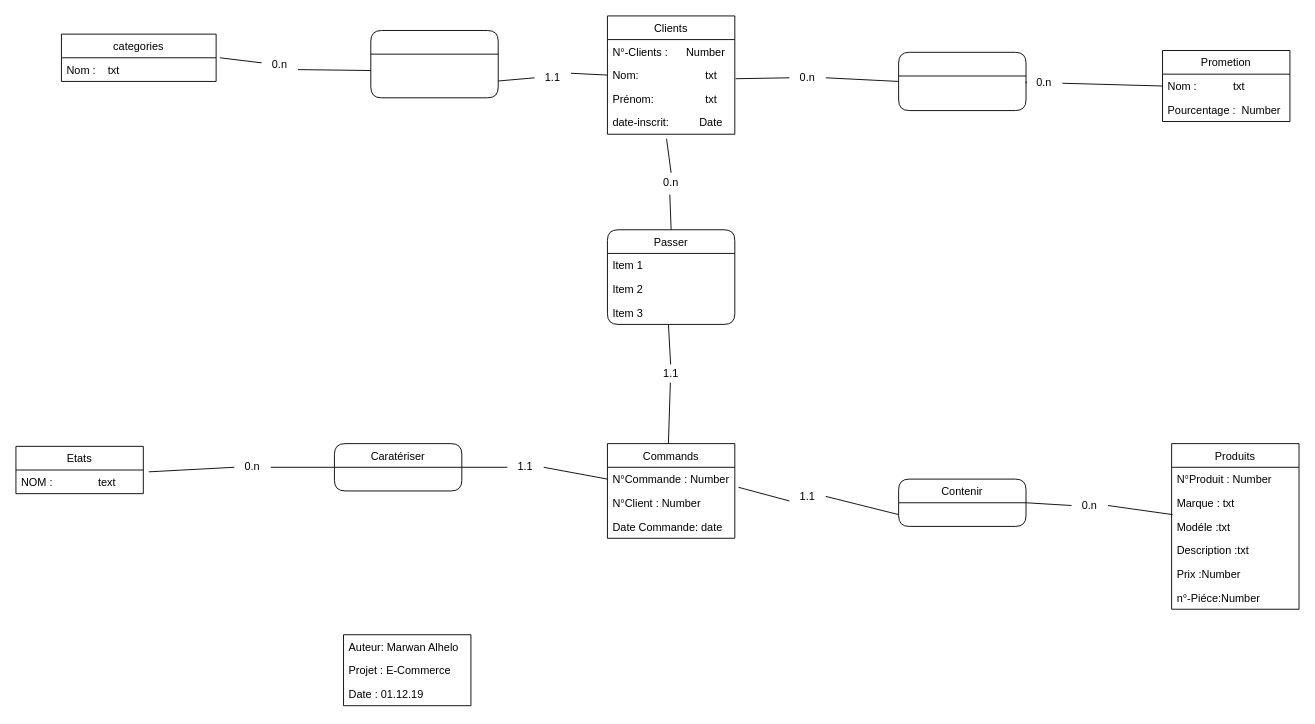
Some shapes in this 1315 by 724 pixel diagram are drawn without their labels. Here are the shapes that lost their labels. From the top down, the centre of each, then its label:
At point 434,64: "Appartenir".
At point 962,81: "Bénificer".
